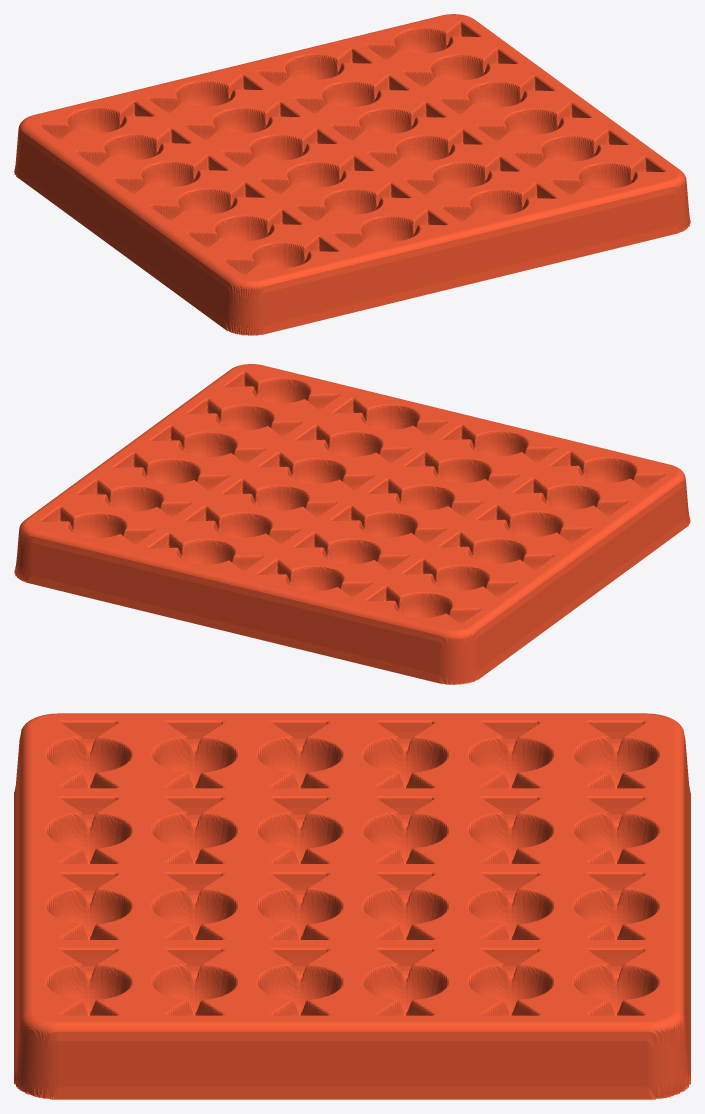
File: mold.glb
The picture shows the model from 3 angles, top to bottom: view 1: azimuth 30°, elevation 25°; view 2: azimuth 150°, elevation 25°; view 3: azimuth 270°, elevation 25°; orthographic projection. The views are drawn at different scales.
Visible parts, largest first — view 1: geometry_0; view 2: geometry_0; view 3: geometry_0.
Part boxes in pixels (box(x1,y1,x2,y2)): geometry_0: box(14, 14, 690, 335); geometry_0: box(14, 364, 690, 684); geometry_0: box(14, 713, 690, 1099).
Bounding box in the file's own units: 0.1561 × 0.0159 × 0.1387.
